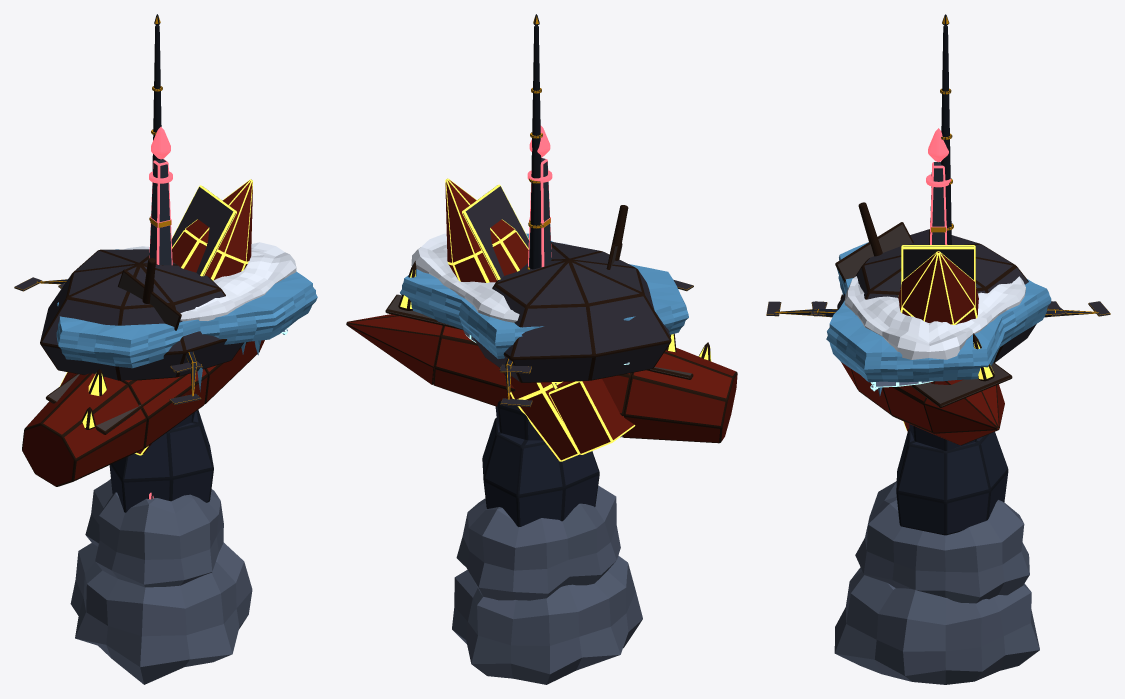
File: sky_citadel_atmosphere_props.fbx
3 renders of one model, left to right at view 1: azimuth 30°, elevation 25°; view 2: azimuth 150°, elevation 25°; view 3: azimuth 270°, elevation 25°, orthographic. The views are drawn at different scales.
Visible parts, largest first — view 1: atm_storm_conductor, atm_burning_wreck, atm_ice_floe, atm_wreck_stern, atm_dome_pylon, atm_stormhawk; view 2: atm_storm_conductor, atm_burning_wreck, atm_wreck_stern, atm_ice_floe, atm_dome_pylon, atm_stormhawk; view 3: atm_storm_conductor, atm_ice_floe, atm_burning_wreck, atm_wreck_stern, atm_dome_pylon, atm_stormhawk.
Boxes of the visible parts, <box> form: atm_storm_conductor: <box>70,14,252,684</box>; atm_burning_wreck: <box>22,249,264,486</box>; atm_ice_floe: <box>56,242,317,391</box>; atm_wreck_stern: <box>59,179,252,455</box>; atm_dome_pylon: <box>147,127,172,499</box>; atm_stormhawk: <box>14,277,202,404</box>; atm_storm_conductor: <box>452,14,642,684</box>; atm_burning_wreck: <box>346,205,737,443</box>; atm_wreck_stern: <box>445,178,635,461</box>; atm_ice_floe: <box>400,233,688,358</box>; atm_dome_pylon: <box>527,125,552,267</box>; atm_stormhawk: <box>499,279,693,406</box>; atm_storm_conductor: <box>834,14,1039,684</box>; atm_ice_floe: <box>826,242,1051,396</box>; atm_burning_wreck: <box>835,202,1036,445</box>; atm_wreck_stern: <box>898,245,978,431</box>; atm_dome_pylon: <box>926,128,950,244</box>; atm_stormhawk: <box>766,301,1110,317</box>.
Bounding box in the file's own units: 42.31 × 80.03 × 38.05.
